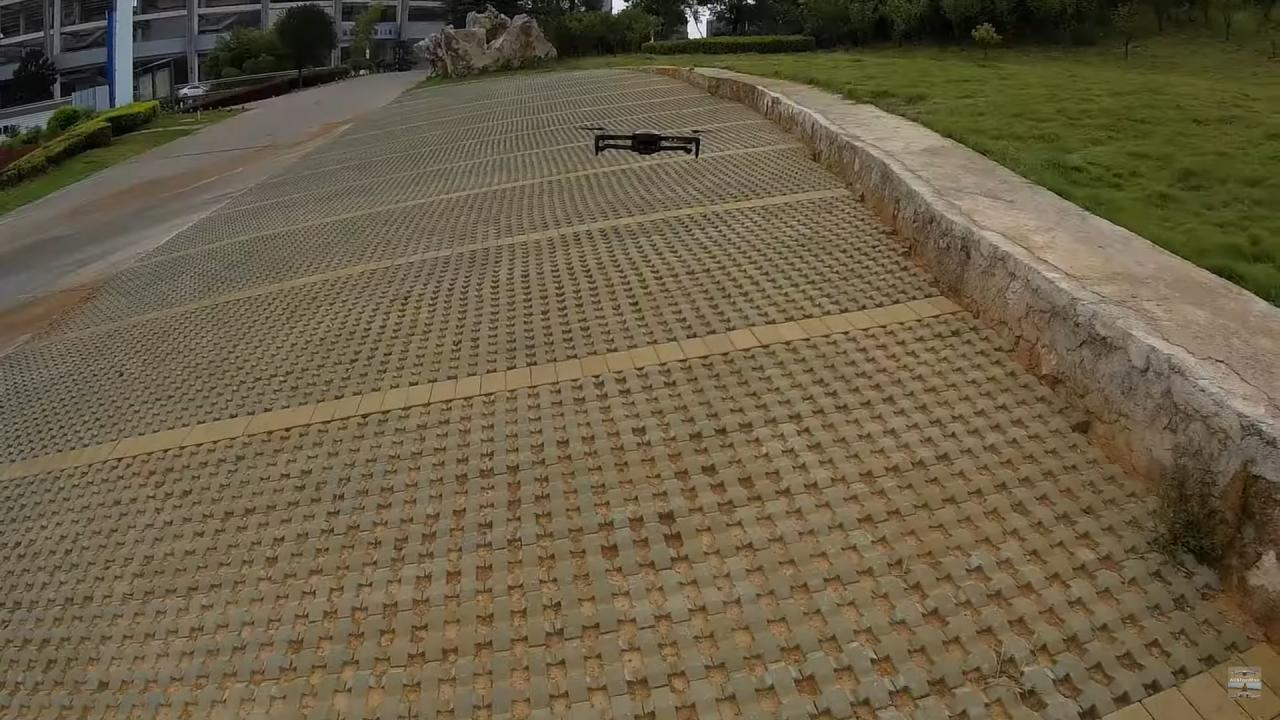Drone: (578, 113, 718, 170)
